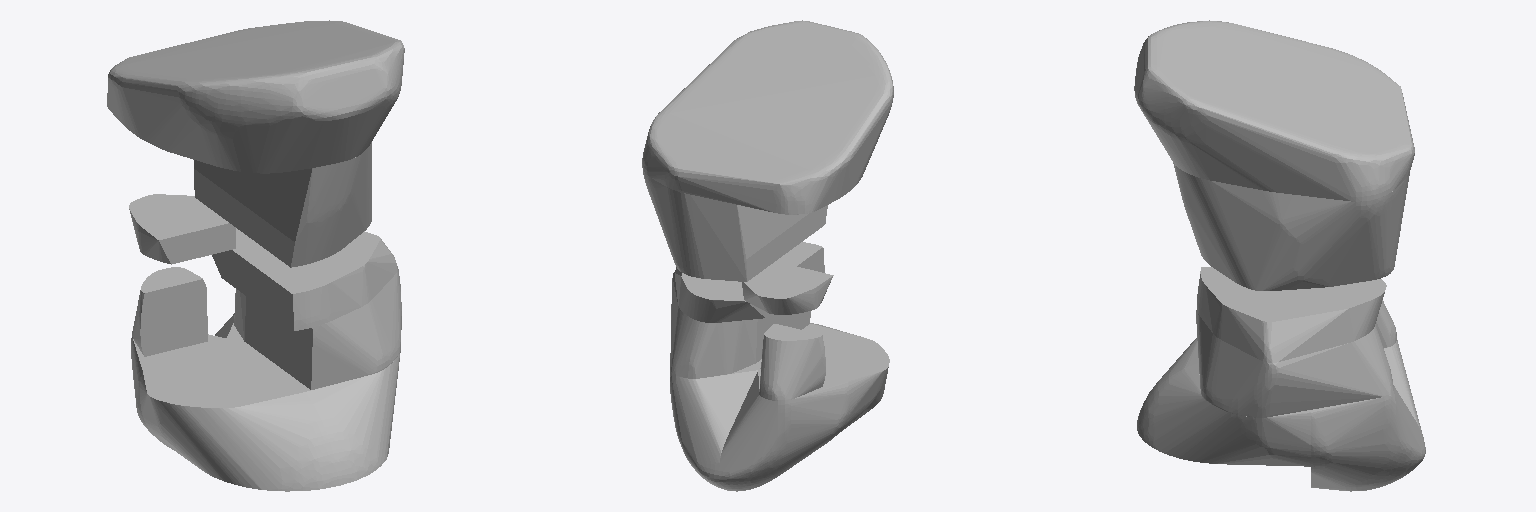
The robot description file, URDF, robot "root":
<robot name="root">
  <link name="link_coacd_convex_piece_0">
    <inertial>
      <origin xyz="0 0 0" rpy="0 0 0"/>
      <inertia ixx="6.68E-08" ixy="-8.47E-11" ixz="3.29E-10" iyy="6.50E-08" iyz="5.72E-09" izz="1.30E-08"/>
    </inertial>
    <visual>
      <origin xyz="0 0 0" rpy="0 0 0"/>
      <geometry>
        <mesh filename="coacd_convex_piece_0.obj" scale="1.0000E+00 1.0000E+00 1.0000E+00"/>
      </geometry>
      <material name="">
        <color rgba="7.50E-01 7.50E-01 7.50E-01 1"/>
      </material>
    </visual>
    <collision>
      <origin xyz="0 0 0" rpy="0 0 0"/>
      <geometry>
        <mesh filename="coacd_convex_piece_0.obj" scale="1.0000E+00 1.0000E+00 1.0000E+00"/>
      </geometry>
    </collision>
  </link>
  <link name="link_coacd_convex_piece_1">
    <inertial>
      <origin xyz="0 0 0" rpy="0 0 0"/>
      <inertia ixx="4.46E-10" ixy="1.22E-10" ixz="-9.92E-12" iyy="8.39E-10" iyz="-5.82E-12" izz="1.26E-09"/>
    </inertial>
    <visual>
      <origin xyz="0 0 0" rpy="0 0 0"/>
      <geometry>
        <mesh filename="coacd_convex_piece_1.obj" scale="1.0000E+00 1.0000E+00 1.0000E+00"/>
      </geometry>
      <material name="">
        <color rgba="7.50E-01 7.50E-01 7.50E-01 1"/>
      </material>
    </visual>
    <collision>
      <origin xyz="0 0 0" rpy="0 0 0"/>
      <geometry>
        <mesh filename="coacd_convex_piece_1.obj" scale="1.0000E+00 1.0000E+00 1.0000E+00"/>
      </geometry>
    </collision>
  </link>
  <joint name="link_coacd_convex_piece_1_joint" type="fixed">
    <origin xyz="0 0 0" rpy="0 0 0"/>
    <parent link="link_coacd_convex_piece_0"/>
    <child link="link_coacd_convex_piece_1"/>
  </joint>
  <link name="link_coacd_convex_piece_2">
    <inertial>
      <origin xyz="0 0 0" rpy="0 0 0"/>
      <inertia ixx="6.25E-10" ixy="-1.14E-10" ixz="9.21E-12" iyy="9.32E-10" iyz="-8.41E-12" izz="1.52E-09"/>
    </inertial>
    <visual>
      <origin xyz="0 0 0" rpy="0 0 0"/>
      <geometry>
        <mesh filename="coacd_convex_piece_2.obj" scale="1.0000E+00 1.0000E+00 1.0000E+00"/>
      </geometry>
      <material name="">
        <color rgba="7.50E-01 7.50E-01 7.50E-01 1"/>
      </material>
    </visual>
    <collision>
      <origin xyz="0 0 0" rpy="0 0 0"/>
      <geometry>
        <mesh filename="coacd_convex_piece_2.obj" scale="1.0000E+00 1.0000E+00 1.0000E+00"/>
      </geometry>
    </collision>
  </link>
  <joint name="link_coacd_convex_piece_2_joint" type="fixed">
    <origin xyz="0 0 0" rpy="0 0 0"/>
    <parent link="link_coacd_convex_piece_1"/>
    <child link="link_coacd_convex_piece_2"/>
  </joint>
  <link name="link_coacd_convex_piece_3">
    <inertial>
      <origin xyz="0 0 0" rpy="0 0 0"/>
      <inertia ixx="2.49E-09" ixy="-1.76E-10" ixz="1.45E-09" iyy="3.58E-09" iyz="1.50E-10" izz="3.26E-09"/>
    </inertial>
    <visual>
      <origin xyz="0 0 0" rpy="0 0 0"/>
      <geometry>
        <mesh filename="coacd_convex_piece_3.obj" scale="1.0000E+00 1.0000E+00 1.0000E+00"/>
      </geometry>
      <material name="">
        <color rgba="7.50E-01 7.50E-01 7.50E-01 1"/>
      </material>
    </visual>
    <collision>
      <origin xyz="0 0 0" rpy="0 0 0"/>
      <geometry>
        <mesh filename="coacd_convex_piece_3.obj" scale="1.0000E+00 1.0000E+00 1.0000E+00"/>
      </geometry>
    </collision>
  </link>
  <joint name="link_coacd_convex_piece_3_joint" type="fixed">
    <origin xyz="0 0 0" rpy="0 0 0"/>
    <parent link="link_coacd_convex_piece_2"/>
    <child link="link_coacd_convex_piece_3"/>
  </joint>
  <link name="link_coacd_convex_piece_4">
    <inertial>
      <origin xyz="0 0 0" rpy="0 0 0"/>
      <inertia ixx="8.93E-09" ixy="1.05E-09" ixz="-1.98E-09" iyy="7.71E-09" iyz="3.48E-09" izz="2.95E-09"/>
    </inertial>
    <visual>
      <origin xyz="0 0 0" rpy="0 0 0"/>
      <geometry>
        <mesh filename="coacd_convex_piece_4.obj" scale="1.0000E+00 1.0000E+00 1.0000E+00"/>
      </geometry>
      <material name="">
        <color rgba="7.50E-01 7.50E-01 7.50E-01 1"/>
      </material>
    </visual>
    <collision>
      <origin xyz="0 0 0" rpy="0 0 0"/>
      <geometry>
        <mesh filename="coacd_convex_piece_4.obj" scale="1.0000E+00 1.0000E+00 1.0000E+00"/>
      </geometry>
    </collision>
  </link>
  <joint name="link_coacd_convex_piece_4_joint" type="fixed">
    <origin xyz="0 0 0" rpy="0 0 0"/>
    <parent link="link_coacd_convex_piece_3"/>
    <child link="link_coacd_convex_piece_4"/>
  </joint>
  <link name="link_coacd_convex_piece_5">
    <inertial>
      <origin xyz="0 0 0" rpy="0 0 0"/>
      <inertia ixx="1.12E-08" ixy="-1.03E-09" ixz="1.93E-09" iyy="9.46E-09" iyz="4.37E-09" izz="3.45E-09"/>
    </inertial>
    <visual>
      <origin xyz="0 0 0" rpy="0 0 0"/>
      <geometry>
        <mesh filename="coacd_convex_piece_5.obj" scale="1.0000E+00 1.0000E+00 1.0000E+00"/>
      </geometry>
      <material name="">
        <color rgba="7.50E-01 7.50E-01 7.50E-01 1"/>
      </material>
    </visual>
    <collision>
      <origin xyz="0 0 0" rpy="0 0 0"/>
      <geometry>
        <mesh filename="coacd_convex_piece_5.obj" scale="1.0000E+00 1.0000E+00 1.0000E+00"/>
      </geometry>
    </collision>
  </link>
  <joint name="link_coacd_convex_piece_5_joint" type="fixed">
    <origin xyz="0 0 0" rpy="0 0 0"/>
    <parent link="link_coacd_convex_piece_4"/>
    <child link="link_coacd_convex_piece_5"/>
  </joint>
  <link name="link_coacd_convex_piece_6">
    <inertial>
      <origin xyz="0 0 0" rpy="0 0 0"/>
      <inertia ixx="1.27E-08" ixy="1.24E-09" ixz="4.66E-09" iyy="1.26E-08" iyz="-1.92E-09" izz="6.19E-09"/>
    </inertial>
    <visual>
      <origin xyz="0 0 0" rpy="0 0 0"/>
      <geometry>
        <mesh filename="coacd_convex_piece_6.obj" scale="1.0000E+00 1.0000E+00 1.0000E+00"/>
      </geometry>
      <material name="">
        <color rgba="7.50E-01 7.50E-01 7.50E-01 1"/>
      </material>
    </visual>
    <collision>
      <origin xyz="0 0 0" rpy="0 0 0"/>
      <geometry>
        <mesh filename="coacd_convex_piece_6.obj" scale="1.0000E+00 1.0000E+00 1.0000E+00"/>
      </geometry>
    </collision>
  </link>
  <joint name="link_coacd_convex_piece_6_joint" type="fixed">
    <origin xyz="0 0 0" rpy="0 0 0"/>
    <parent link="link_coacd_convex_piece_5"/>
    <child link="link_coacd_convex_piece_6"/>
  </joint>
  <link name="link_coacd_convex_piece_7">
    <inertial>
      <origin xyz="0 0 0" rpy="0 0 0"/>
      <inertia ixx="1.55E-08" ixy="-1.15E-09" ixz="-4.70E-09" iyy="1.50E-08" iyz="-1.93E-09" izz="6.79E-09"/>
    </inertial>
    <visual>
      <origin xyz="0 0 0" rpy="0 0 0"/>
      <geometry>
        <mesh filename="coacd_convex_piece_7.obj" scale="1.0000E+00 1.0000E+00 1.0000E+00"/>
      </geometry>
      <material name="">
        <color rgba="7.50E-01 7.50E-01 7.50E-01 1"/>
      </material>
    </visual>
    <collision>
      <origin xyz="0 0 0" rpy="0 0 0"/>
      <geometry>
        <mesh filename="coacd_convex_piece_7.obj" scale="1.0000E+00 1.0000E+00 1.0000E+00"/>
      </geometry>
    </collision>
  </link>
  <joint name="link_coacd_convex_piece_7_joint" type="fixed">
    <origin xyz="0 0 0" rpy="0 0 0"/>
    <parent link="link_coacd_convex_piece_6"/>
    <child link="link_coacd_convex_piece_7"/>
  </joint>
  <link name="link_coacd_convex_piece_8">
    <inertial>
      <origin xyz="0 0 0" rpy="0 0 0"/>
      <inertia ixx="1.49E-08" ixy="-5.44E-11" ixz="-1.36E-10" iyy="1.53E-08" iyz="-3.91E-09" izz="5.81E-09"/>
    </inertial>
    <visual>
      <origin xyz="0 0 0" rpy="0 0 0"/>
      <geometry>
        <mesh filename="coacd_convex_piece_8.obj" scale="1.0000E+00 1.0000E+00 1.0000E+00"/>
      </geometry>
      <material name="">
        <color rgba="7.50E-01 7.50E-01 7.50E-01 1"/>
      </material>
    </visual>
    <collision>
      <origin xyz="0 0 0" rpy="0 0 0"/>
      <geometry>
        <mesh filename="coacd_convex_piece_8.obj" scale="1.0000E+00 1.0000E+00 1.0000E+00"/>
      </geometry>
    </collision>
  </link>
  <joint name="link_coacd_convex_piece_8_joint" type="fixed">
    <origin xyz="0 0 0" rpy="0 0 0"/>
    <parent link="link_coacd_convex_piece_7"/>
    <child link="link_coacd_convex_piece_8"/>
  </joint>
  <link name="link_coacd_convex_piece_9">
    <inertial>
      <origin xyz="0 0 0" rpy="0 0 0"/>
      <inertia ixx="4.21E-08" ixy="-1.50E-10" ixz="-5.43E-10" iyy="3.98E-08" iyz="-9.72E-09" izz="6.29E-09"/>
    </inertial>
    <visual>
      <origin xyz="0 0 0" rpy="0 0 0"/>
      <geometry>
        <mesh filename="coacd_convex_piece_9.obj" scale="1.0000E+00 1.0000E+00 1.0000E+00"/>
      </geometry>
      <material name="">
        <color rgba="7.50E-01 7.50E-01 7.50E-01 1"/>
      </material>
    </visual>
    <collision>
      <origin xyz="0 0 0" rpy="0 0 0"/>
      <geometry>
        <mesh filename="coacd_convex_piece_9.obj" scale="1.0000E+00 1.0000E+00 1.0000E+00"/>
      </geometry>
    </collision>
  </link>
  <joint name="link_coacd_convex_piece_9_joint" type="fixed">
    <origin xyz="0 0 0" rpy="0 0 0"/>
    <parent link="link_coacd_convex_piece_8"/>
    <child link="link_coacd_convex_piece_9"/>
  </joint>
  <link name="link_coacd_convex_piece_10">
    <inertial>
      <origin xyz="0 0 0" rpy="0 0 0"/>
      <inertia ixx="4.14E-10" ixy="2.24E-10" ixz="1.05E-10" iyy="2.61E-10" iyz="-1.48E-10" izz="5.36E-10"/>
    </inertial>
    <visual>
      <origin xyz="0 0 0" rpy="0 0 0"/>
      <geometry>
        <mesh filename="coacd_convex_piece_10.obj" scale="1.0000E+00 1.0000E+00 1.0000E+00"/>
      </geometry>
      <material name="">
        <color rgba="7.50E-01 7.50E-01 7.50E-01 1"/>
      </material>
    </visual>
    <collision>
      <origin xyz="0 0 0" rpy="0 0 0"/>
      <geometry>
        <mesh filename="coacd_convex_piece_10.obj" scale="1.0000E+00 1.0000E+00 1.0000E+00"/>
      </geometry>
    </collision>
  </link>
  <joint name="link_coacd_convex_piece_10_joint" type="fixed">
    <origin xyz="0 0 0" rpy="0 0 0"/>
    <parent link="link_coacd_convex_piece_9"/>
    <child link="link_coacd_convex_piece_10"/>
  </joint>
  <link name="link_coacd_convex_piece_11">
    <inertial>
      <origin xyz="0 0 0" rpy="0 0 0"/>
      <inertia ixx="6.45E-10" ixy="3.12E-10" ixz="-2.11E-10" iyy="4.59E-10" iyz="2.86E-10" izz="6.87E-10"/>
    </inertial>
    <visual>
      <origin xyz="0 0 0" rpy="0 0 0"/>
      <geometry>
        <mesh filename="coacd_convex_piece_11.obj" scale="1.0000E+00 1.0000E+00 1.0000E+00"/>
      </geometry>
      <material name="">
        <color rgba="7.50E-01 7.50E-01 7.50E-01 1"/>
      </material>
    </visual>
    <collision>
      <origin xyz="0 0 0" rpy="0 0 0"/>
      <geometry>
        <mesh filename="coacd_convex_piece_11.obj" scale="1.0000E+00 1.0000E+00 1.0000E+00"/>
      </geometry>
    </collision>
  </link>
  <joint name="link_coacd_convex_piece_11_joint" type="fixed">
    <origin xyz="0 0 0" rpy="0 0 0"/>
    <parent link="link_coacd_convex_piece_10"/>
    <child link="link_coacd_convex_piece_11"/>
  </joint>
  <link name="link_coacd_convex_piece_12">
    <inertial>
      <origin xyz="0 0 0" rpy="0 0 0"/>
      <inertia ixx="4.57E-10" ixy="-1.85E-10" ixz="-9.04E-11" iyy="2.33E-10" iyz="-1.65E-10" izz="5.33E-10"/>
    </inertial>
    <visual>
      <origin xyz="0 0 0" rpy="0 0 0"/>
      <geometry>
        <mesh filename="coacd_convex_piece_12.obj" scale="1.0000E+00 1.0000E+00 1.0000E+00"/>
      </geometry>
      <material name="">
        <color rgba="7.50E-01 7.50E-01 7.50E-01 1"/>
      </material>
    </visual>
    <collision>
      <origin xyz="0 0 0" rpy="0 0 0"/>
      <geometry>
        <mesh filename="coacd_convex_piece_12.obj" scale="1.0000E+00 1.0000E+00 1.0000E+00"/>
      </geometry>
    </collision>
  </link>
  <joint name="link_coacd_convex_piece_12_joint" type="fixed">
    <origin xyz="0 0 0" rpy="0 0 0"/>
    <parent link="link_coacd_convex_piece_11"/>
    <child link="link_coacd_convex_piece_12"/>
  </joint>
  <link name="link_coacd_convex_piece_13">
    <inertial>
      <origin xyz="0 0 0" rpy="0 0 0"/>
      <inertia ixx="4.70E-10" ixy="-1.74E-12" ixz="-1.32E-11" iyy="8.50E-10" iyz="1.19E-10" izz="8.80E-10"/>
    </inertial>
    <visual>
      <origin xyz="0 0 0" rpy="0 0 0"/>
      <geometry>
        <mesh filename="coacd_convex_piece_13.obj" scale="1.0000E+00 1.0000E+00 1.0000E+00"/>
      </geometry>
      <material name="">
        <color rgba="7.50E-01 7.50E-01 7.50E-01 1"/>
      </material>
    </visual>
    <collision>
      <origin xyz="0 0 0" rpy="0 0 0"/>
      <geometry>
        <mesh filename="coacd_convex_piece_13.obj" scale="1.0000E+00 1.0000E+00 1.0000E+00"/>
      </geometry>
    </collision>
  </link>
  <joint name="link_coacd_convex_piece_13_joint" type="fixed">
    <origin xyz="0 0 0" rpy="0 0 0"/>
    <parent link="link_coacd_convex_piece_12"/>
    <child link="link_coacd_convex_piece_13"/>
  </joint>
  <link name="link_coacd_convex_piece_14">
    <inertial>
      <origin xyz="0 0 0" rpy="0 0 0"/>
      <inertia ixx="1.83E-09" ixy="-1.71E-10" ixz="-1.21E-09" iyy="3.07E-09" iyz="-2.19E-10" izz="2.46E-09"/>
    </inertial>
    <visual>
      <origin xyz="0 0 0" rpy="0 0 0"/>
      <geometry>
        <mesh filename="coacd_convex_piece_14.obj" scale="1.0000E+00 1.0000E+00 1.0000E+00"/>
      </geometry>
      <material name="">
        <color rgba="7.50E-01 7.50E-01 7.50E-01 1"/>
      </material>
    </visual>
    <collision>
      <origin xyz="0 0 0" rpy="0 0 0"/>
      <geometry>
        <mesh filename="coacd_convex_piece_14.obj" scale="1.0000E+00 1.0000E+00 1.0000E+00"/>
      </geometry>
    </collision>
  </link>
  <joint name="link_coacd_convex_piece_14_joint" type="fixed">
    <origin xyz="0 0 0" rpy="0 0 0"/>
    <parent link="link_coacd_convex_piece_13"/>
    <child link="link_coacd_convex_piece_14"/>
  </joint>
</robot>

--- What the picture shows (computed from the rendered views, not written in the file) ---
Views: 3 orthographic renders of the robot side by side, from view 1: azimuth 30°, elevation 25°; view 2: azimuth 150°, elevation 25°; view 3: azimuth 270°, elevation 25°.
Model root with 15 links and 14 joints (14 fixed), rooted at link_coacd_convex_piece_0, posed all joints at 0.
Visible links, largest first — view 1: link_coacd_convex_piece_0, link_coacd_convex_piece_8, link_coacd_convex_piece_7, link_coacd_convex_piece_2, link_coacd_convex_piece_3, link_coacd_convex_piece_10, link_coacd_convex_piece_11, link_coacd_convex_piece_4; view 2: link_coacd_convex_piece_0, link_coacd_convex_piece_7, link_coacd_convex_piece_4, link_coacd_convex_piece_5, link_coacd_convex_piece_3, link_coacd_convex_piece_11, link_coacd_convex_piece_8, link_coacd_convex_piece_2, link_coacd_convex_piece_10; view 3: link_coacd_convex_piece_0, link_coacd_convex_piece_7, link_coacd_convex_piece_3, link_coacd_convex_piece_2, link_coacd_convex_piece_8, link_coacd_convex_piece_5, link_coacd_convex_piece_4, link_coacd_convex_piece_11.
Link boxes in pixels (left/top/right/bottom): link_coacd_convex_piece_0: left=107, top=20, right=404, bottom=173; link_coacd_convex_piece_8: left=140, top=346, right=400, bottom=491; link_coacd_convex_piece_7: left=194, top=142, right=371, bottom=267; link_coacd_convex_piece_2: left=212, top=228, right=397, bottom=330; link_coacd_convex_piece_3: left=234, top=269, right=401, bottom=389; link_coacd_convex_piece_10: left=129, top=194, right=235, bottom=264; link_coacd_convex_piece_11: left=132, top=267, right=207, bottom=356; link_coacd_convex_piece_4: left=131, top=334, right=238, bottom=449; link_coacd_convex_piece_0: left=642, top=20, right=893, bottom=214; link_coacd_convex_piece_7: left=643, top=171, right=827, bottom=281; link_coacd_convex_piece_4: left=718, top=369, right=849, bottom=491; link_coacd_convex_piece_5: left=670, top=360, right=761, bottom=490; link_coacd_convex_piece_3: left=670, top=273, right=810, bottom=378; link_coacd_convex_piece_11: left=759, top=324, right=825, bottom=400; link_coacd_convex_piece_8: left=761, top=323, right=889, bottom=432; link_coacd_convex_piece_2: left=674, top=242, right=824, bottom=322; link_coacd_convex_piece_10: left=742, top=261, right=833, bottom=314; link_coacd_convex_piece_0: left=1134, top=20, right=1414, bottom=201; link_coacd_convex_piece_7: left=1173, top=163, right=1409, bottom=290; link_coacd_convex_piece_3: left=1196, top=310, right=1393, bottom=417; link_coacd_convex_piece_2: left=1197, top=267, right=1386, bottom=362; link_coacd_convex_piece_8: left=1137, top=338, right=1310, bottom=466; link_coacd_convex_piece_5: left=1311, top=386, right=1425, bottom=491; link_coacd_convex_piece_4: left=1384, top=340, right=1423, bottom=437; link_coacd_convex_piece_11: left=1376, top=300, right=1396, bottom=347.
Bounding box of the posed robot: 0.0582 × 0.0632 × 0.1051 m (x, y, z).
9 mesh visuals loaded from 15 distinct referenced files (9 OBJ); not drawn: 6 (reference not matched to a file when rendering).